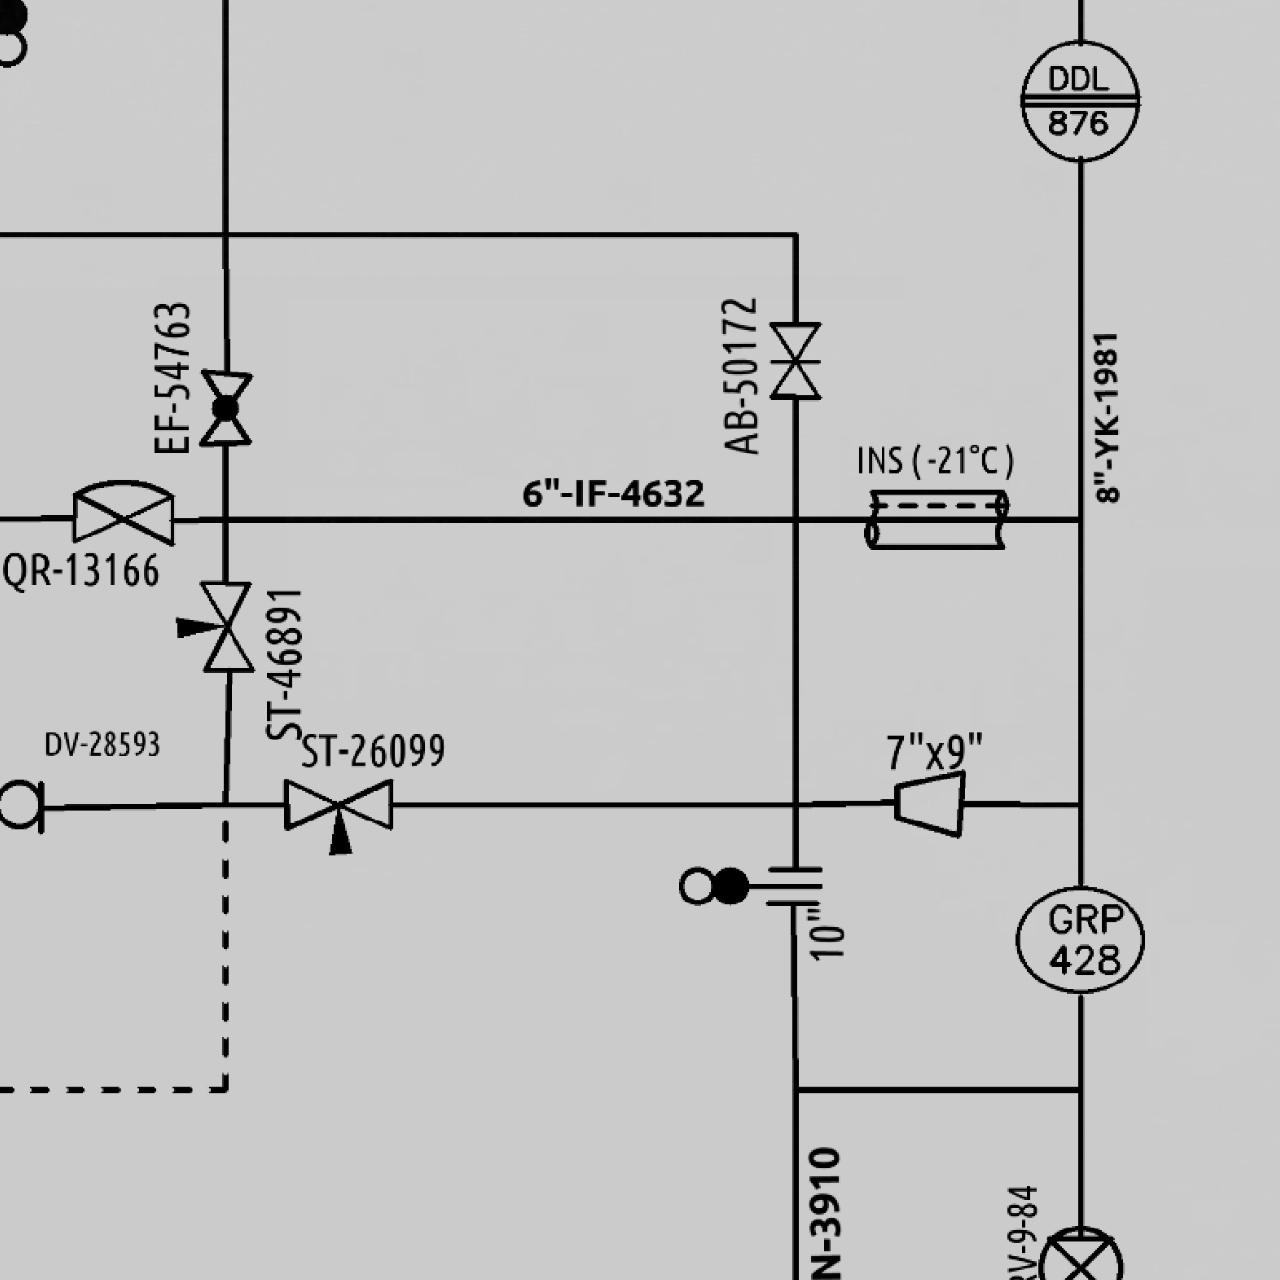Control-Panel: (1013, 34, 1145, 166)
